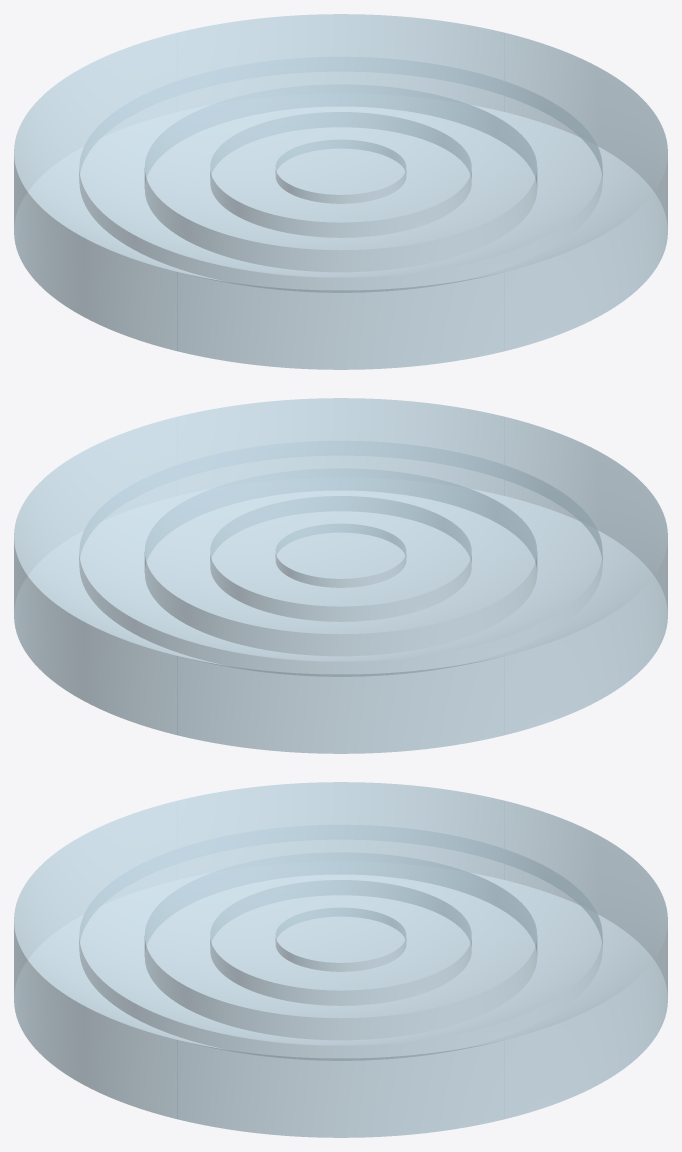
The model's file is Fresnel_Lens_DC.glb.
The picture shows the model from 3 angles, top to bottom: view 1: azimuth 30°, elevation 25°; view 2: azimuth 150°, elevation 25°; view 3: azimuth 270°, elevation 25°; orthographic projection.
Visible parts, largest first — view 1: mesh10_meshnode_10, mesh9_meshnode_9, mesh8_meshnode_8, mesh6_meshnode_6, mesh4_meshnode_4, mesh5_meshnode_5, mesh2_meshnode_2, mesh7_meshnode_7, mesh3_meshnode_3, mesh0_meshnode_0, mesh1_meshnode_1; view 2: mesh10_meshnode_10, mesh9_meshnode_9, mesh8_meshnode_8, mesh6_meshnode_6, mesh4_meshnode_4, mesh5_meshnode_5, mesh2_meshnode_2, mesh7_meshnode_7, mesh3_meshnode_3, mesh0_meshnode_0, mesh1_meshnode_1; view 3: mesh10_meshnode_10, mesh9_meshnode_9, mesh8_meshnode_8, mesh6_meshnode_6, mesh4_meshnode_4, mesh5_meshnode_5, mesh2_meshnode_2, mesh7_meshnode_7, mesh3_meshnode_3, mesh0_meshnode_0, mesh1_meshnode_1.
Boxes of the visible parts, x1,y1,x2,y2 form: mesh10_meshnode_10: (14,105,667,369); mesh9_meshnode_9: (14,14,667,369); mesh8_meshnode_8: (14,14,667,292); mesh6_meshnode_6: (79,56,602,277); mesh4_meshnode_4: (144,84,537,250); mesh5_meshnode_5: (144,84,537,272); mesh2_meshnode_2: (210,112,471,222); mesh7_meshnode_7: (79,57,602,290); mesh3_meshnode_3: (210,112,471,237); mesh0_meshnode_0: (275,139,406,194); mesh1_meshnode_1: (275,140,406,203); mesh10_meshnode_10: (14,489,667,753); mesh9_meshnode_9: (14,398,667,753); mesh8_meshnode_8: (14,398,667,676); mesh6_meshnode_6: (79,440,602,661); mesh4_meshnode_4: (144,468,537,634); mesh5_meshnode_5: (144,468,537,656); mesh2_meshnode_2: (210,496,471,606); mesh7_meshnode_7: (79,441,602,674); mesh3_meshnode_3: (210,496,471,621); mesh0_meshnode_0: (275,523,406,578); mesh1_meshnode_1: (275,524,406,587); mesh10_meshnode_10: (14,873,667,1137); mesh9_meshnode_9: (14,782,667,1137); mesh8_meshnode_8: (14,782,667,1060); mesh6_meshnode_6: (79,824,602,1045); mesh4_meshnode_4: (144,852,537,1018); mesh5_meshnode_5: (144,852,537,1040); mesh2_meshnode_2: (210,880,471,990); mesh7_meshnode_7: (79,825,602,1058); mesh3_meshnode_3: (210,880,471,1005); mesh0_meshnode_0: (275,907,406,962); mesh1_meshnode_1: (275,908,406,971).
Size of the model in its own units: 0.0508 by 0.00681 by 0.0508.
